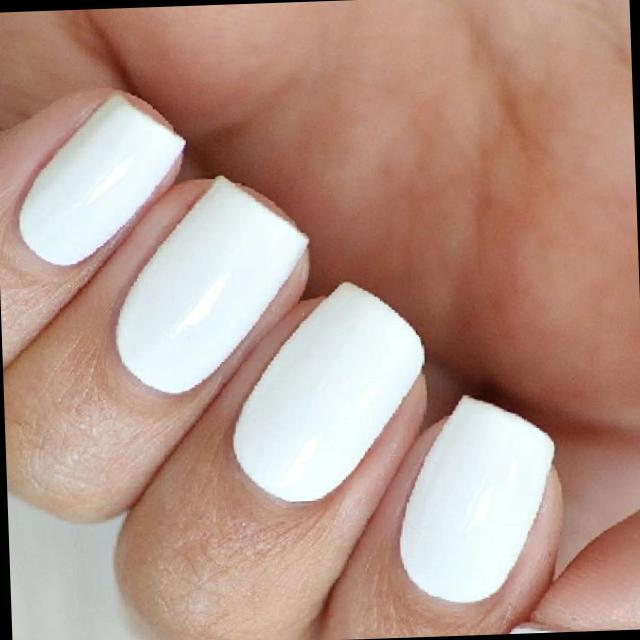Nail: (232, 282, 423, 500), (116, 177, 306, 391), (398, 397, 552, 602), (21, 95, 181, 262)
